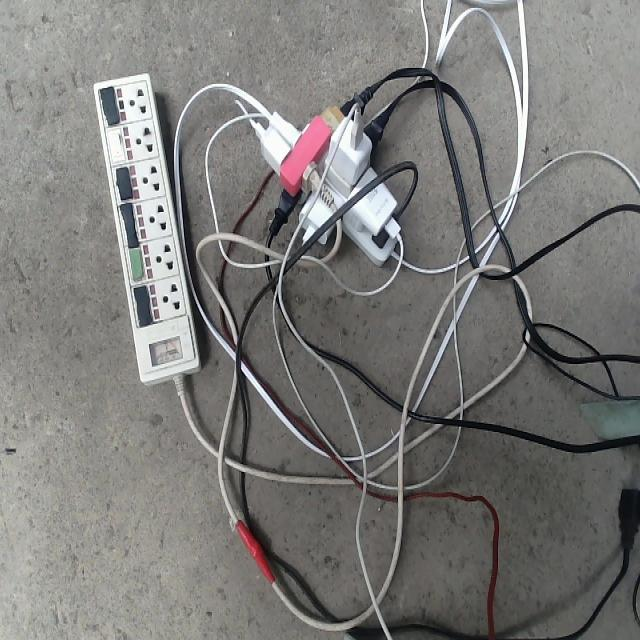-: (251, 80, 403, 264)
